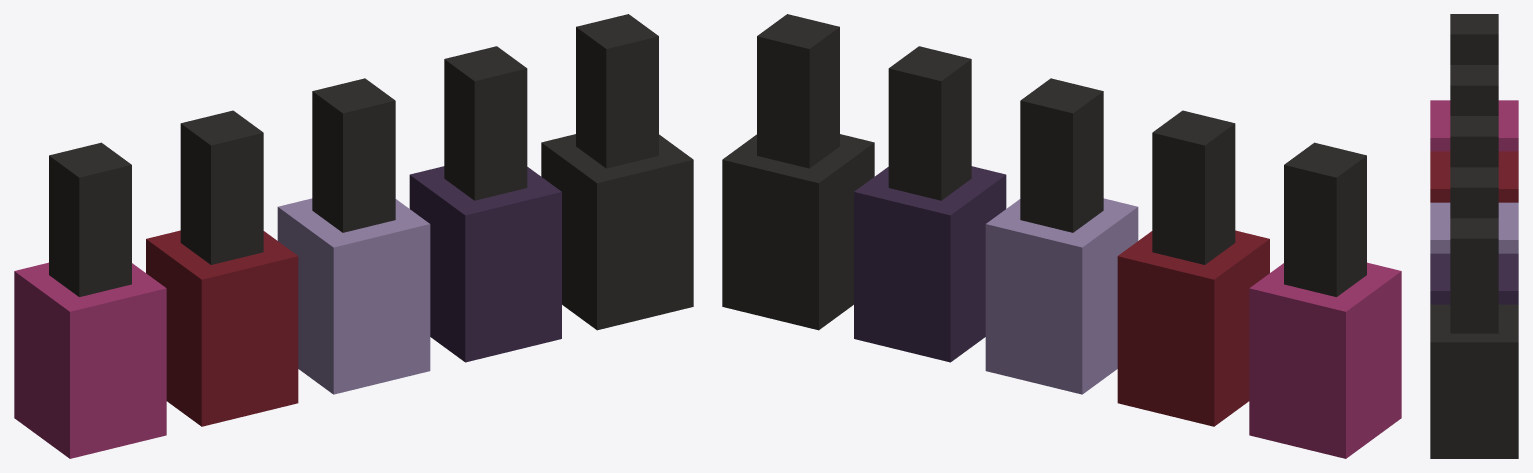
The model's file is nail-polish-row.glb.
3 views of the same model, side by side, from view 1: azimuth 30°, elevation 25°; view 2: azimuth 150°, elevation 25°; view 3: azimuth 270°, elevation 25° (orthographic). The views are drawn at different scales.
Parts seen in each view (by area): view 1: plastic-dark, accent-magenta, accent-lilac, accent-crimson, accent-purple; view 2: plastic-dark, accent-magenta, accent-lilac, accent-crimson, accent-purple; view 3: plastic-dark, accent-crimson, accent-magenta, accent-purple, accent-lilac.
Part boxes in pixels (x1,y1,x2,y2): plastic-dark: [49, 14, 693, 330]; accent-magenta: [14, 262, 166, 458]; accent-lilac: [277, 198, 430, 394]; accent-crimson: [146, 230, 298, 426]; accent-purple: [409, 166, 561, 362]; plastic-dark: [722, 14, 1366, 330]; accent-magenta: [1249, 262, 1401, 458]; accent-lilac: [985, 198, 1138, 394]; accent-crimson: [1117, 230, 1269, 426]; accent-purple: [854, 166, 1006, 362]; plastic-dark: [1430, 14, 1518, 458]; accent-crimson: [1430, 151, 1518, 202]; accent-magenta: [1430, 100, 1518, 151]; accent-purple: [1430, 253, 1518, 304]; accent-lilac: [1430, 202, 1518, 253].
Size of the model in its own units: 0.142 by 0.058 by 0.022.
